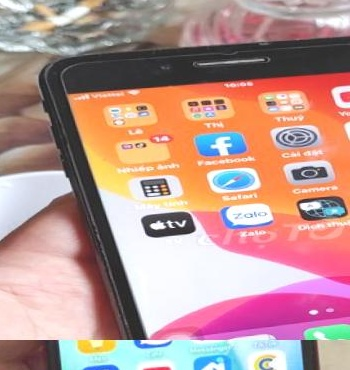physical_damage: (208, 43, 248, 59)
scratch: (22, 82, 109, 269), (84, 293, 161, 340), (29, 62, 74, 79), (237, 37, 277, 51), (141, 45, 176, 59)
